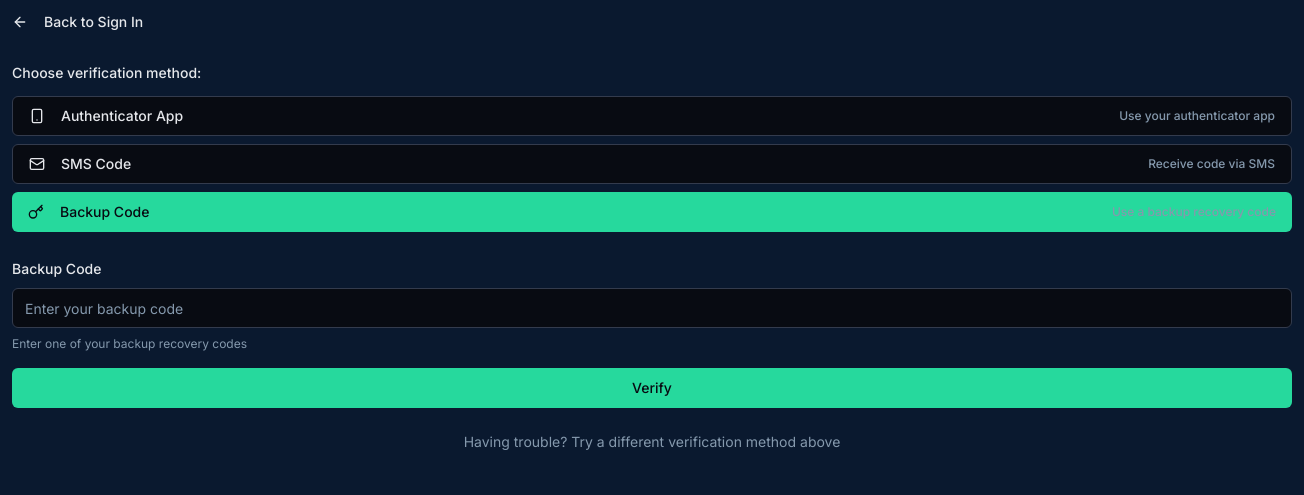
Test: TwoFactorForm › Backup Code Verification › should validate backup code format
Note: Test invalid code
Type "123" into the field labelled "Backup Code" at (652, 308), box 12,288 -> 1292,328
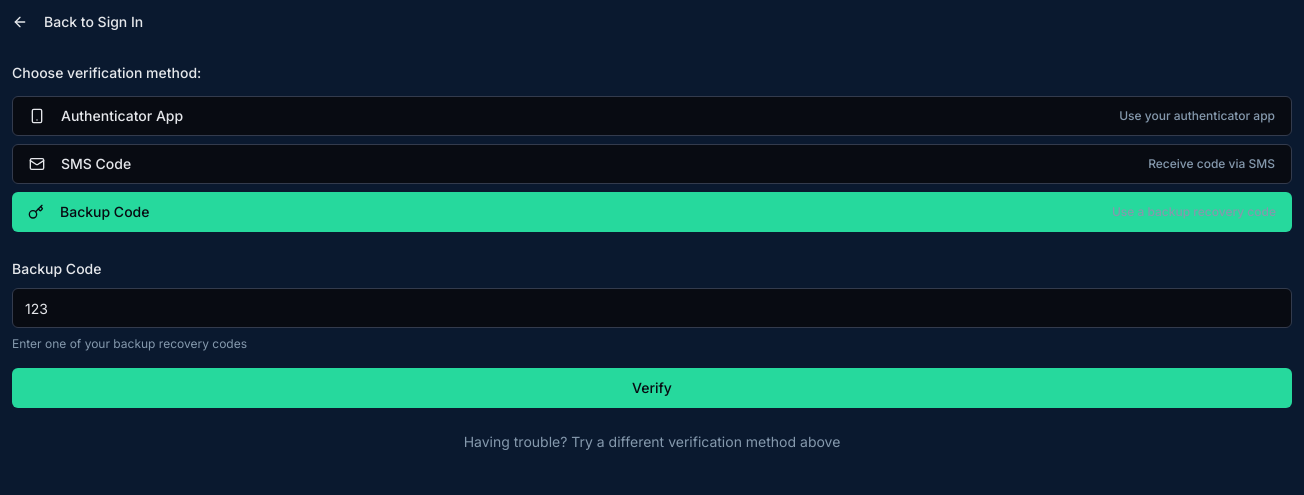
Click the button "Verify" at (652, 388), box 12,368 -> 1292,408
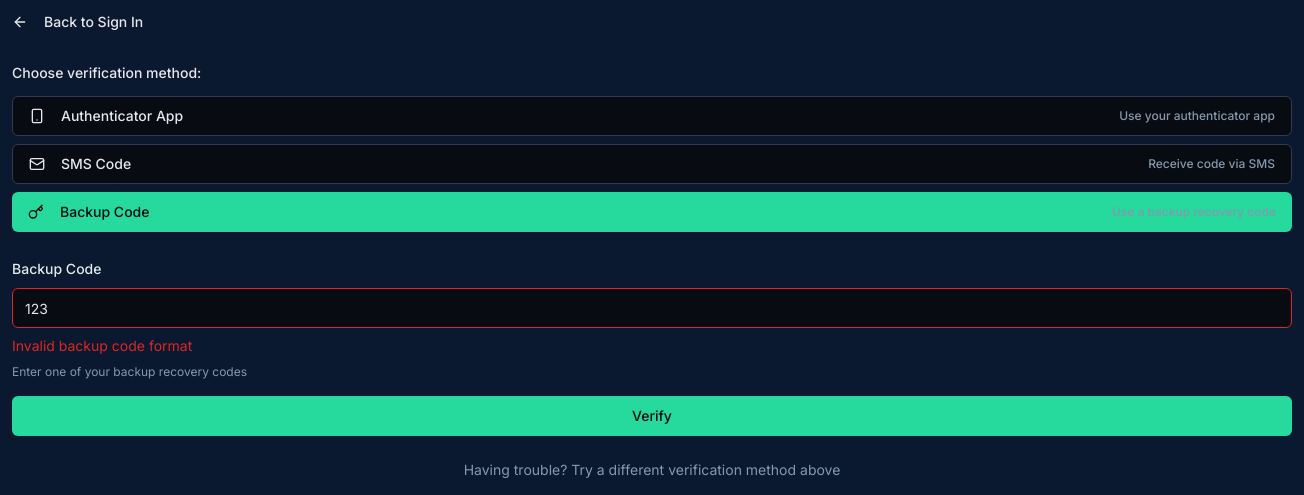
Expected: the text "Invalid backup code format" is shown, 12,337 -> 192,354
